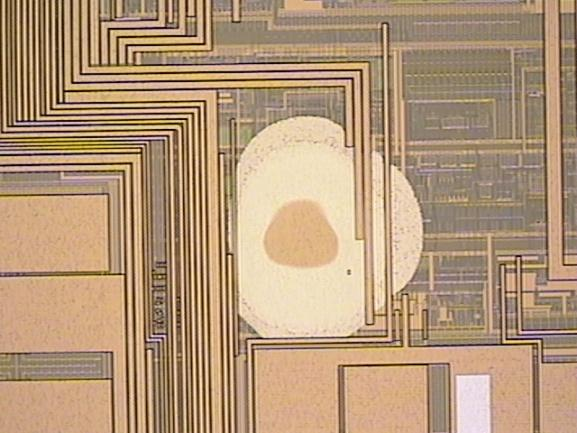BLOCK ETCH: (193, 100, 438, 355)
